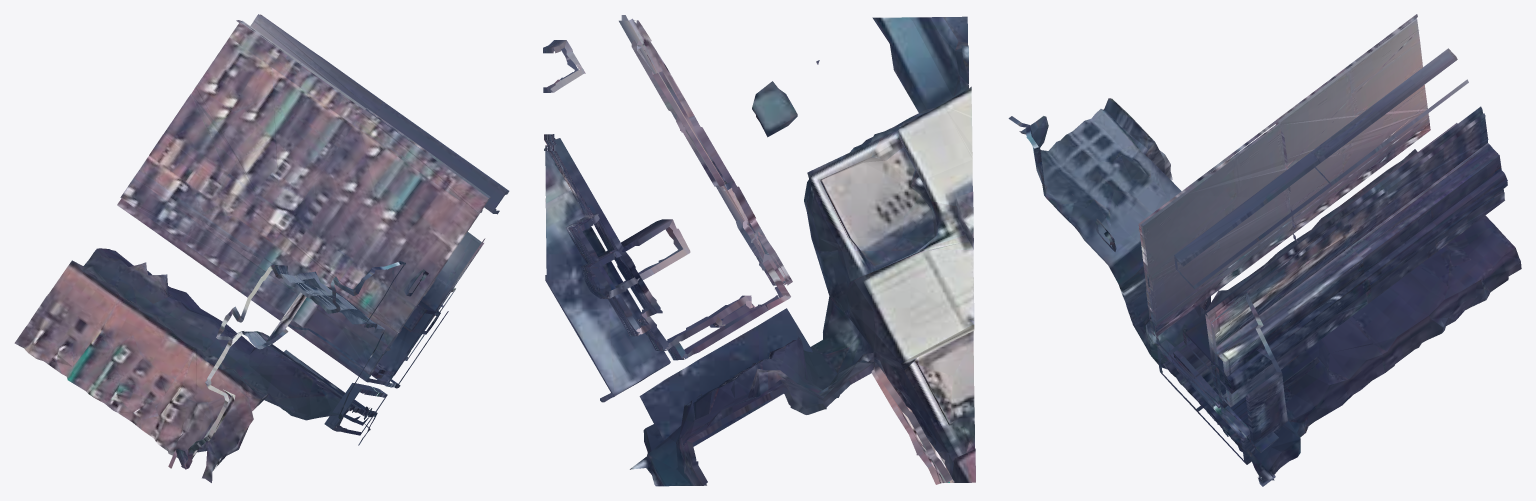
3 renders of one model, left to right at view 1: azimuth 30°, elevation 25°; view 2: azimuth 150°, elevation 25°; view 3: azimuth 270°, elevation 25°, orthographic. The views are drawn at different scales.
Bounding box in the file's own units: 52.79 × 50.09 × 52.7.
1 material, 1 textured.
